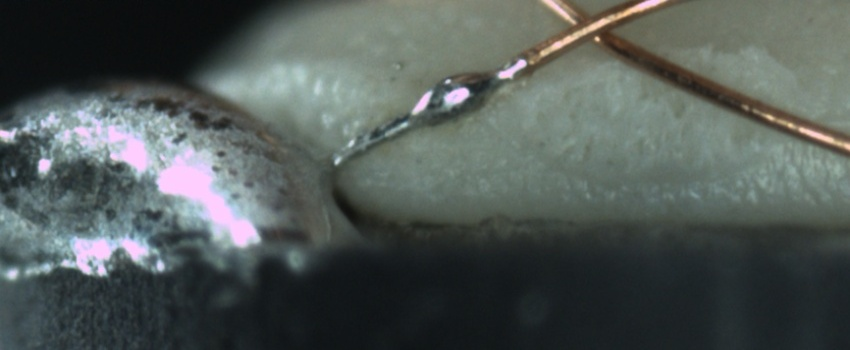CL: (545, 2, 640, 55)
TB: (414, 64, 507, 132)
TS: (328, 57, 529, 168)
TTCW: (322, 35, 571, 173)
